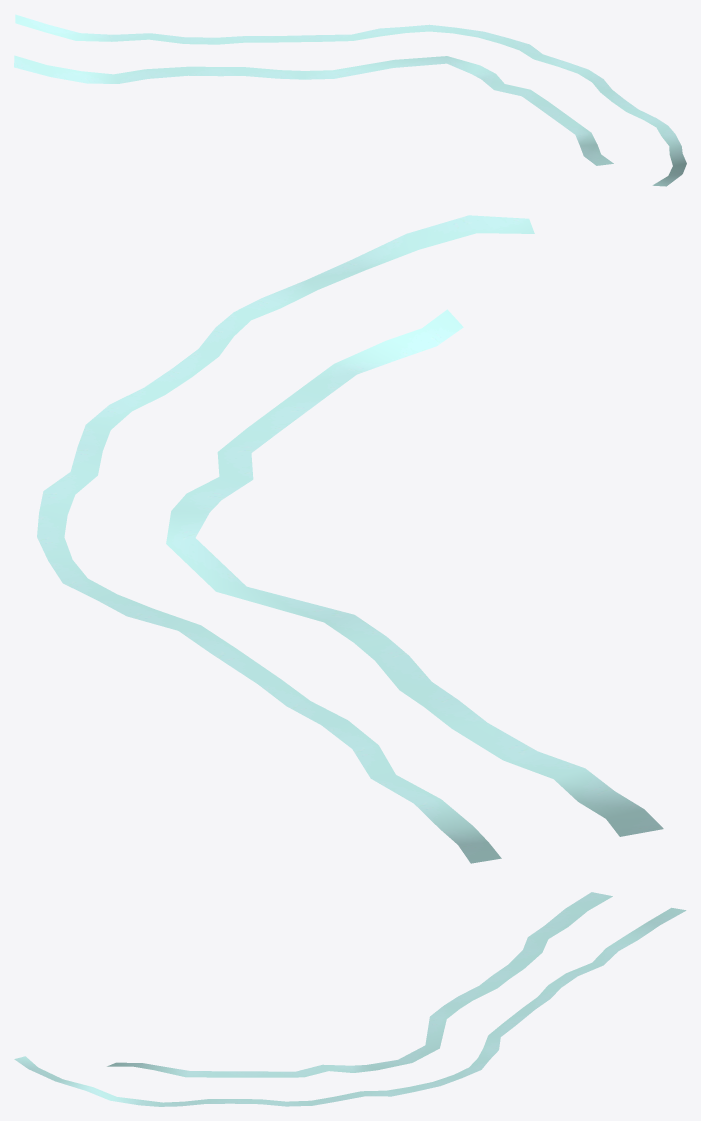
Rendered from watershore.fbx.
3 renders of one model, top to bottom at view 1: azimuth 30°, elevation 25°; view 2: azimuth 150°, elevation 25°; view 3: azimuth 270°, elevation 25°, orthographic. The views are drawn at different scales.
Visible parts, largest first — view 1: river_shoreline_mat; view 2: river_shoreline_mat; view 3: river_shoreline_mat.
Part boxes in pixels (left/top/right/bottom): river_shoreline_mat: left=14, top=14, right=686, bottom=186; river_shoreline_mat: left=37, top=215, right=663, bottom=863; river_shoreline_mat: left=14, top=892, right=686, bottom=1106.
Bounding box in the file's own units: 47.12 × 1.98 × 63.74.
